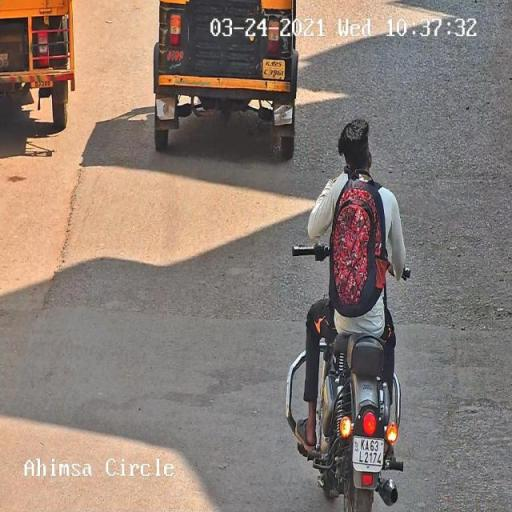numberplate: (353, 435, 386, 469)
using mobile: (342, 162, 356, 177)
